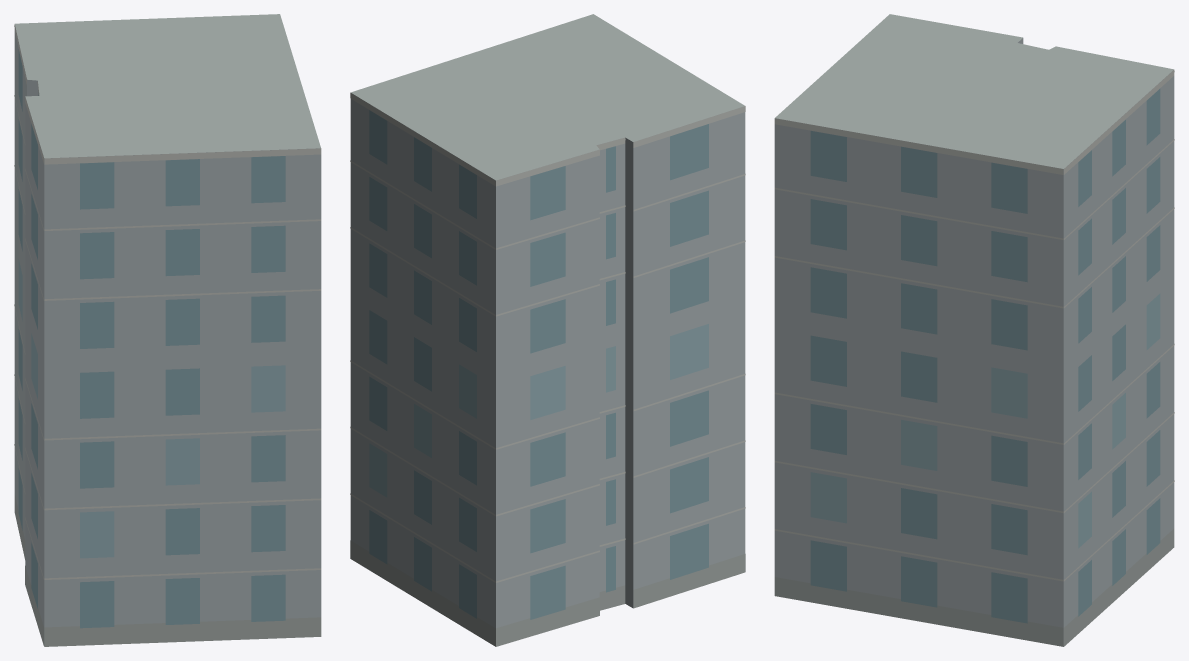
File: survey-upis-32529006.glb
The picture shows the model from 3 angles, left to right: view 1: azimuth 30°, elevation 25°; view 2: azimuth 150°, elevation 25°; view 3: azimuth 270°, elevation 25°; orthographic projection. The views are drawn at different scales.
Visible parts, largest first — view 1: survey-upis-32529006.tmp; view 2: survey-upis-32529006.tmp; view 3: survey-upis-32529006.tmp.
Boxes of the visible parts, x1=… form: survey-upis-32529006.tmp: x1=14, y1=14, x2=321, y2=646; survey-upis-32529006.tmp: x1=350, y1=14, x2=745, y2=646; survey-upis-32529006.tmp: x1=774, y1=14, x2=1174, y2=646.
Bounding box in the file's own units: 13.21 × 18.95 × 14.39.
